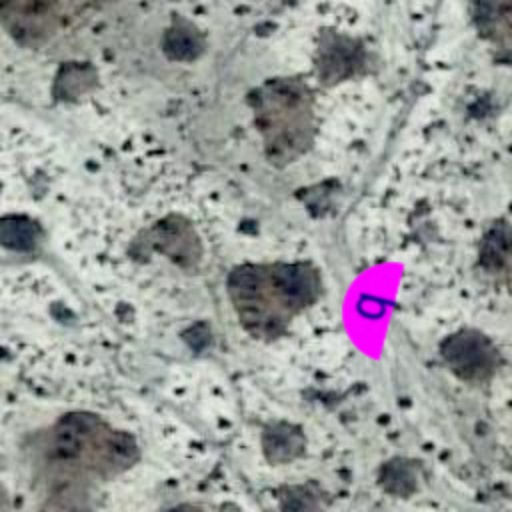semicircle: (306, 244, 430, 368)
